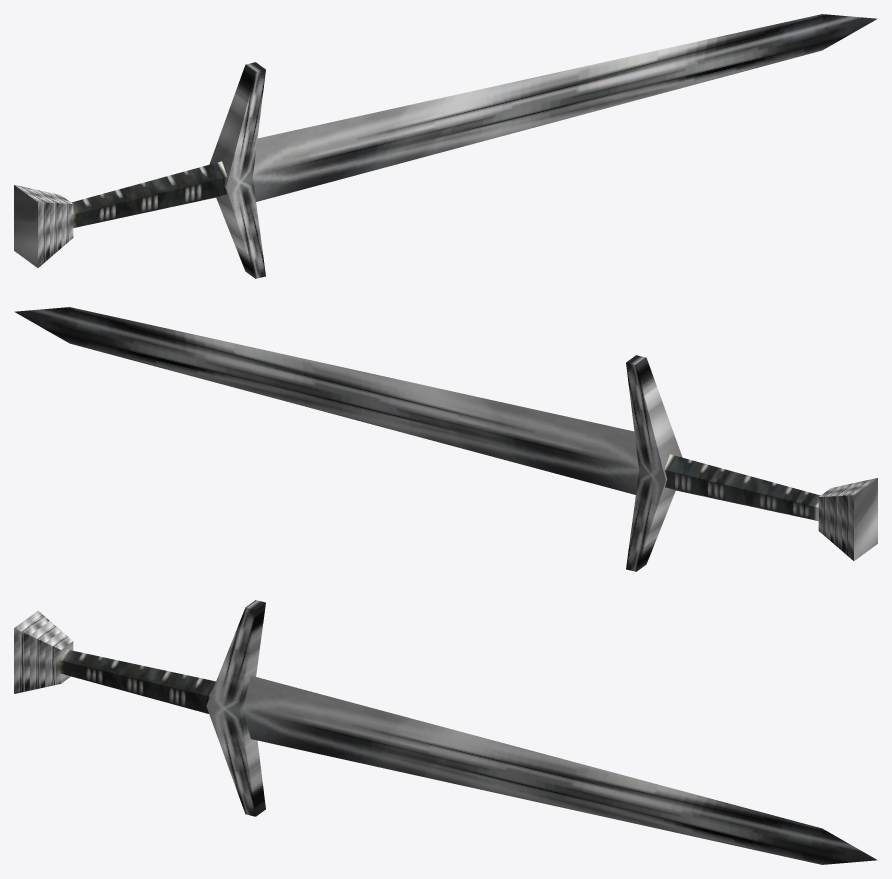
3 views of the same model, one above another, from view 1: azimuth 30°, elevation 25°; view 2: azimuth 150°, elevation 25°; view 3: azimuth 330°, elevation 25° (orthographic).
Visible parts, largest first — view 1: IT10652_DMSPRITEDEF_node; view 2: IT10652_DMSPRITEDEF_node; view 3: IT10652_DMSPRITEDEF_node.
Boxes of the visible parts, box(x1,y1,x2,y2) form: IT10652_DMSPRITEDEF_node: box(14, 14, 877, 278); IT10652_DMSPRITEDEF_node: box(14, 307, 877, 571); IT10652_DMSPRITEDEF_node: box(14, 600, 877, 864).
Size of the model in its own units: 3.14 by 0.7286 by 0.1536.
2 materials, 2 textured.
